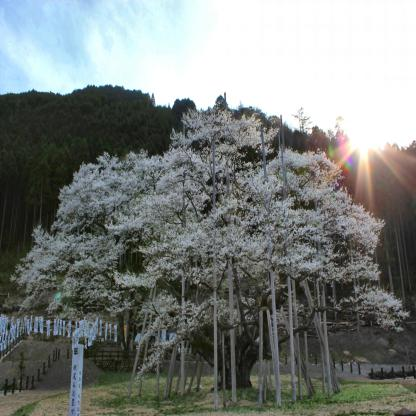EdohiganSakura: (9, 107, 412, 391)
